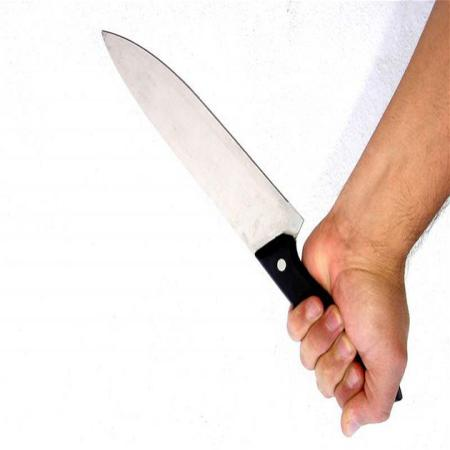long weapon: (93, 20, 358, 363)
